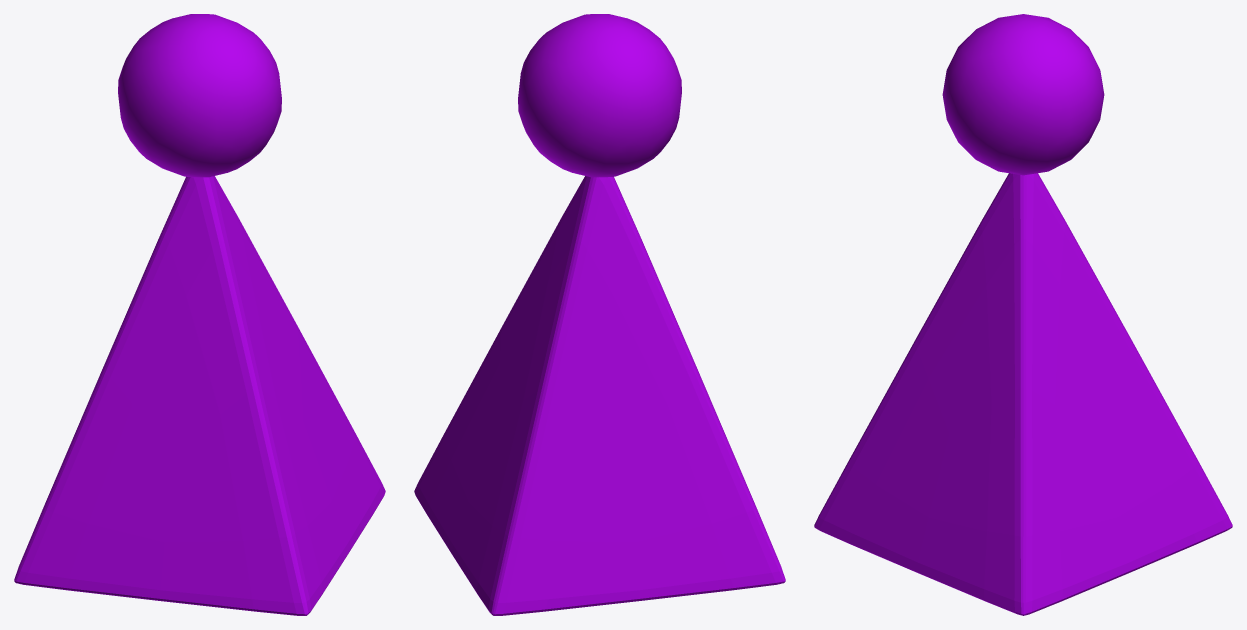
The model's file is player4.glb.
3 renders of one model, left to right at view 1: azimuth 30°, elevation 25°; view 2: azimuth 150°, elevation 25°; view 3: azimuth 270°, elevation 25°, orthographic. The views are drawn at different scales.
Parts seen in each view (by area): view 1: player4; view 2: player4; view 3: player4.
Part boxes in pixels (left/top/right/bottom): player4: left=14, top=14, right=385, bottom=615; player4: left=414, top=14, right=785, bottom=615; player4: left=814, top=14, right=1232, bottom=615.
Bounding box in the file's own units: 1.91 × 2.57 × 1.91.
